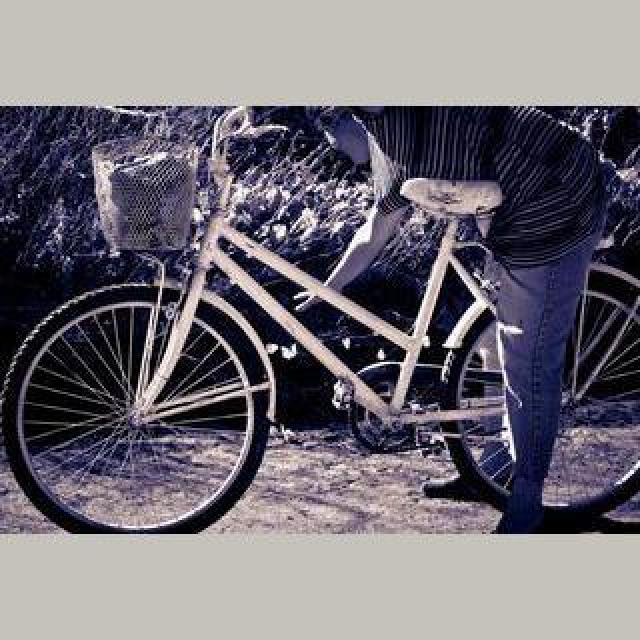MC-Bike: (352, 102, 606, 520)
Person: (26, 110, 628, 526)
